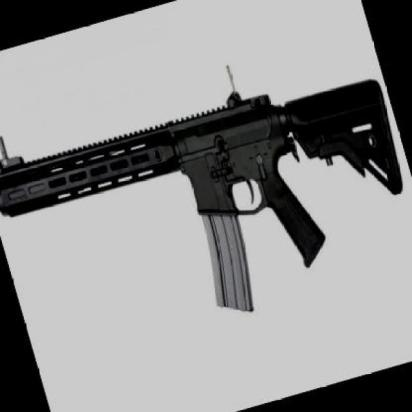Gun: (0, 31, 412, 356)
